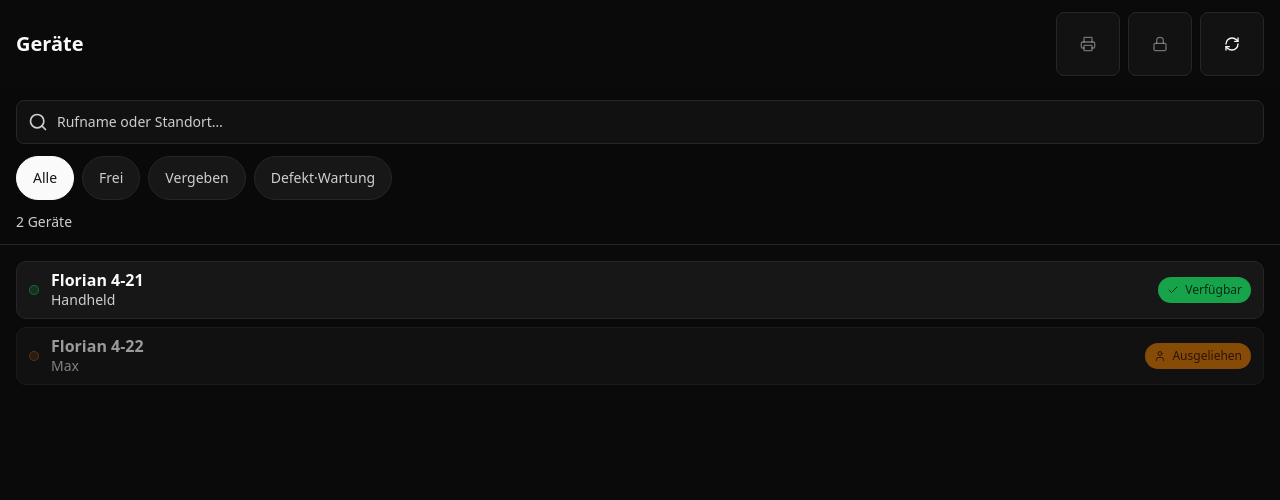
Test: DeviceList › getUserFriendlyErrorMessage › shows server error message for 500 errors
The width and height of the screenshot is (1280, 500).
Click the button named "aktualisieren". click: (1232, 44)
box: left=1200, top=12, right=1264, bottom=76
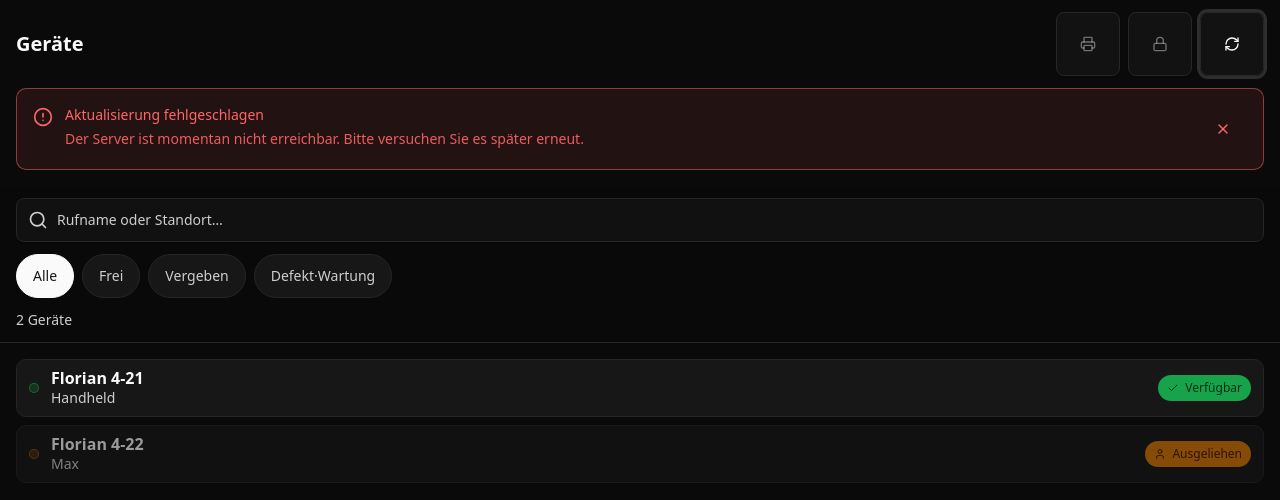
Expected: the text "Der Server ist momentan nicht erreichbar" is shown, left=65, top=129, right=584, bottom=148
